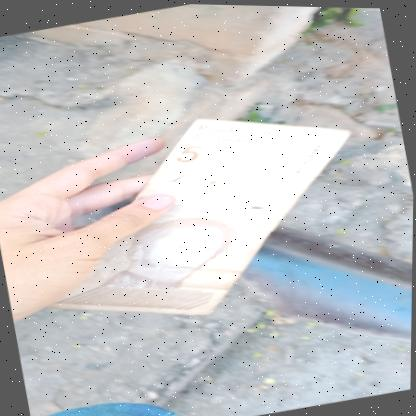five-front-vef: (18, 84, 382, 347)
